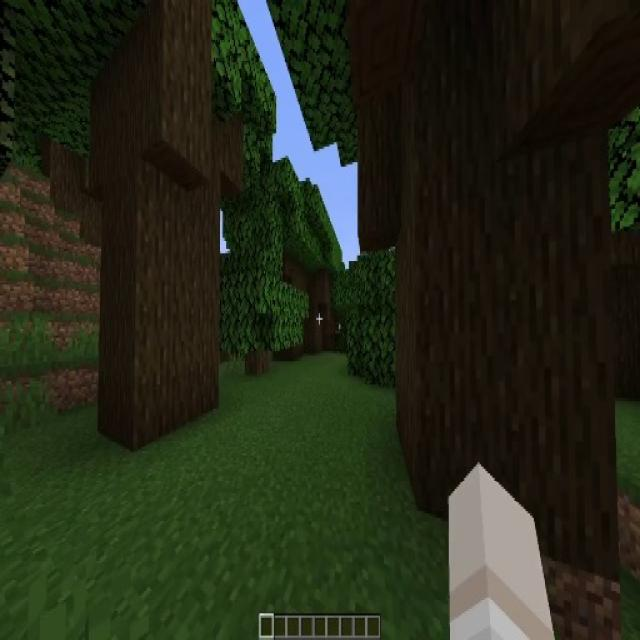dark_oak_log: (362, 15, 618, 583), (98, 4, 225, 458)
